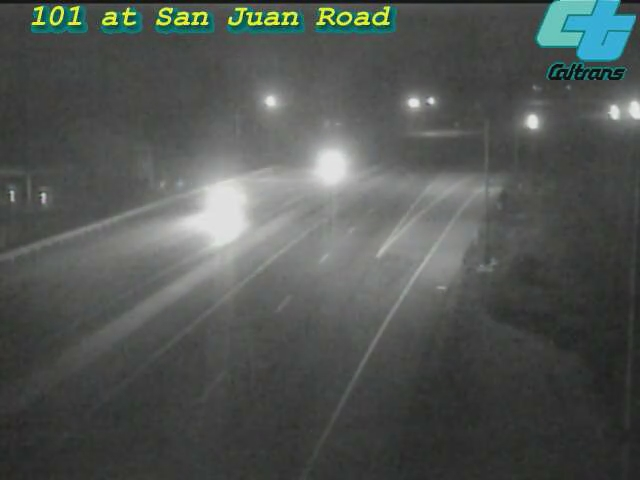vehicle: (200, 154, 280, 234), (294, 123, 374, 203), (508, 97, 558, 147), (588, 89, 638, 139), (609, 85, 640, 135)
